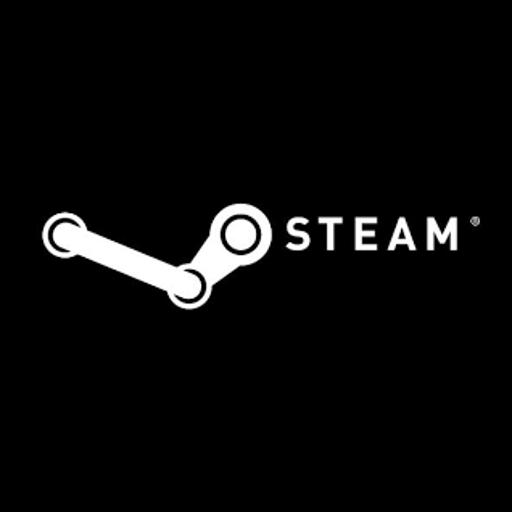Steam: (0, 128, 512, 384)
